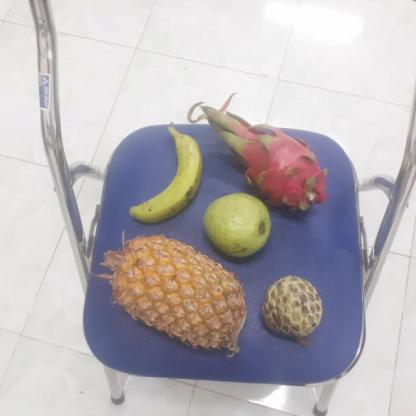annona: (258, 277, 323, 341)
banana: (127, 129, 203, 224)
guava: (201, 191, 273, 258)
pineapple: (104, 234, 244, 354)
pitaya: (230, 125, 323, 210)
